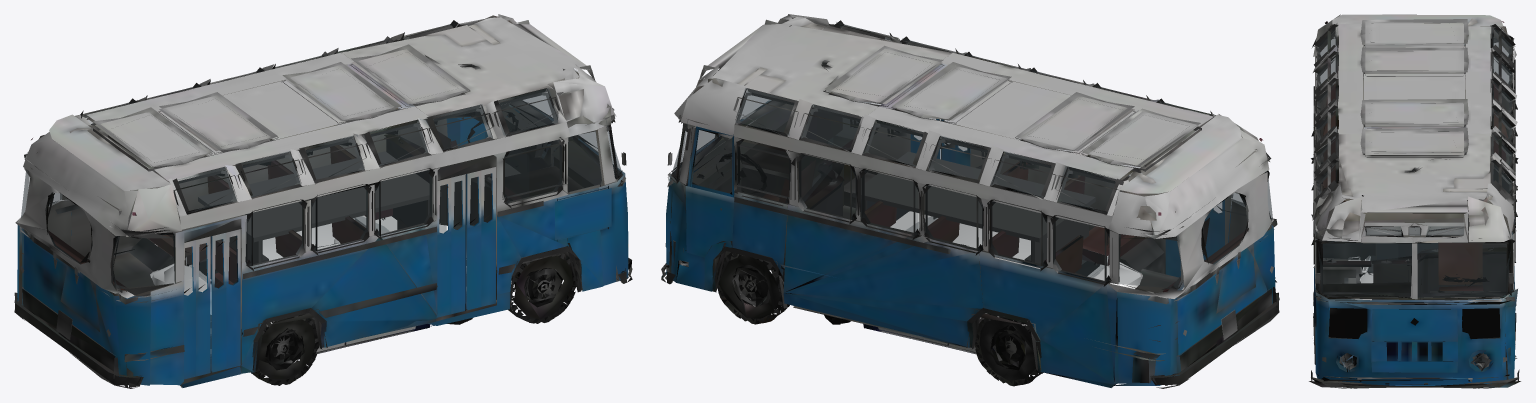
File: vehicles.v1.glb
3 views of the same model, side by side, from view 1: azimuth 30°, elevation 25°; view 2: azimuth 150°, elevation 25°; view 3: azimuth 270°, elevation 25° (orthographic). The views are drawn at different scales.
Parts seen in each view (by area): view 1: bus, kekeh, sedan, police_car; view 2: bus, kekeh, sedan, police_car; view 3: bus, kekeh, sedan.
Part boxes in pixels (x1,y1,x2,y2): bus: [14, 14, 632, 388]; kekeh: [198, 151, 441, 263]; sedan: [150, 216, 472, 331]; police_car: [298, 321, 455, 359]; bus: [661, 14, 1279, 388]; kekeh: [852, 151, 1095, 263]; sedan: [824, 216, 1142, 334]; police_car: [825, 315, 1031, 354]; bus: [1309, 14, 1520, 388]; kekeh: [1375, 243, 1437, 260]; sedan: [1348, 256, 1374, 283].
Size of the model in its own units: 7.58 by 3.18 by 3.08.
9 materials, 3 textured.
